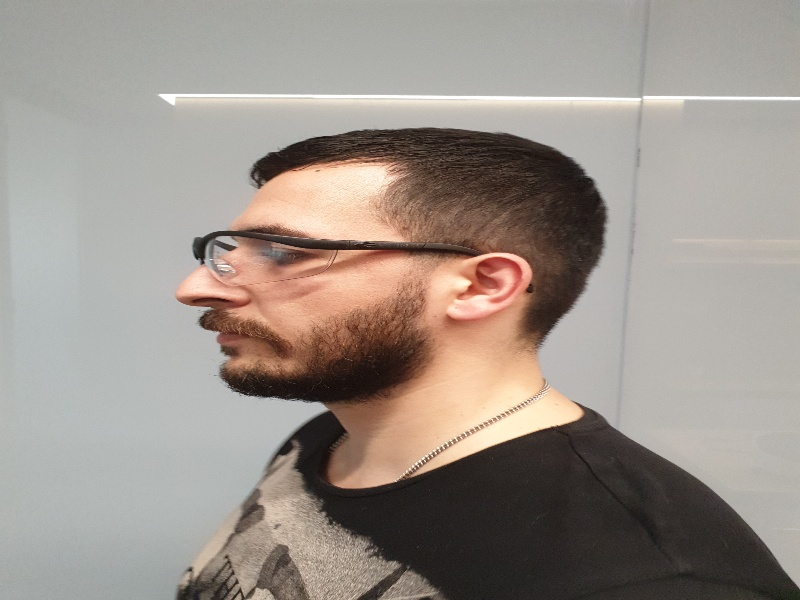Gozluk: (192, 229, 480, 289)
